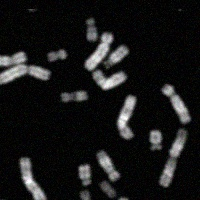chromosome: (159, 128, 187, 187), (161, 84, 191, 124), (20, 158, 46, 200), (85, 32, 112, 69), (0, 64, 50, 83), (117, 95, 137, 139), (96, 150, 120, 181), (91, 70, 126, 89), (103, 45, 128, 69), (0, 50, 26, 65), (61, 91, 86, 102), (86, 18, 97, 41), (79, 163, 90, 186), (100, 182, 116, 197), (149, 131, 162, 149), (47, 50, 66, 62), (78, 190, 91, 200), (115, 197, 128, 200), (0, 199, 8, 200)
